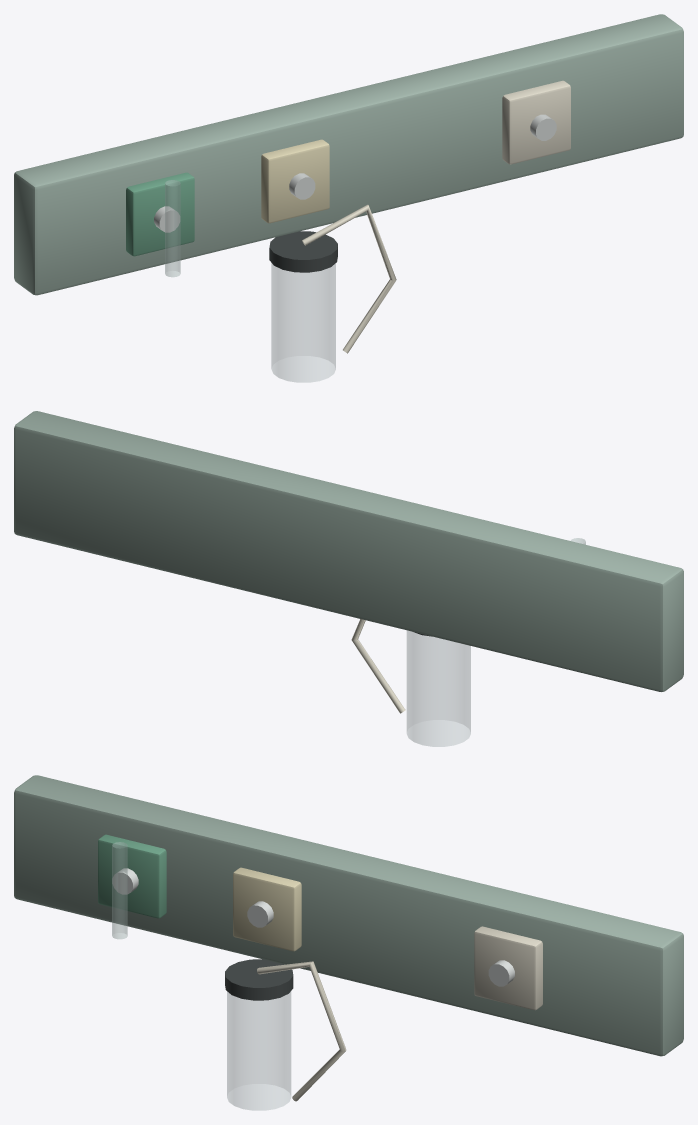
The model's file is CTCC_PROP_WallGasManifold.fbx.
3 views of the same model, one above another, from view 1: azimuth 30°, elevation 25°; view 2: azimuth 150°, elevation 25°; view 3: azimuth 330°, elevation 25° (orthographic).
Visible parts, largest first — view 1: CTCC_PROP_WallGasManifold; view 2: CTCC_PROP_WallGasManifold; view 3: CTCC_PROP_WallGasManifold.
Boxes of the visible parts, left/top/right/bottom form: CTCC_PROP_WallGasManifold: left=14, top=14, right=683, bottom=382; CTCC_PROP_WallGasManifold: left=14, top=411, right=683, bottom=746; CTCC_PROP_WallGasManifold: left=14, top=775, right=683, bottom=1110.
Size of the model in its own units: 1.35 by 0.47 by 0.182.
